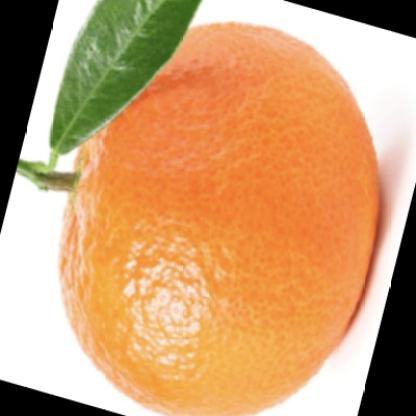fresh: (56, 24, 383, 415)
